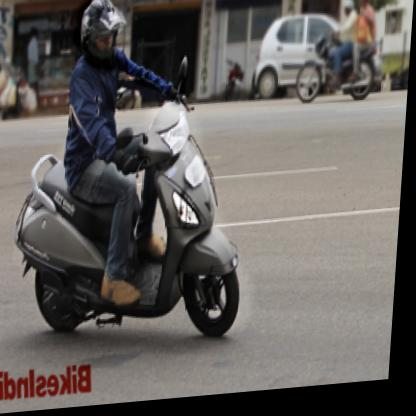With Helmet: (77, 0, 129, 77)
